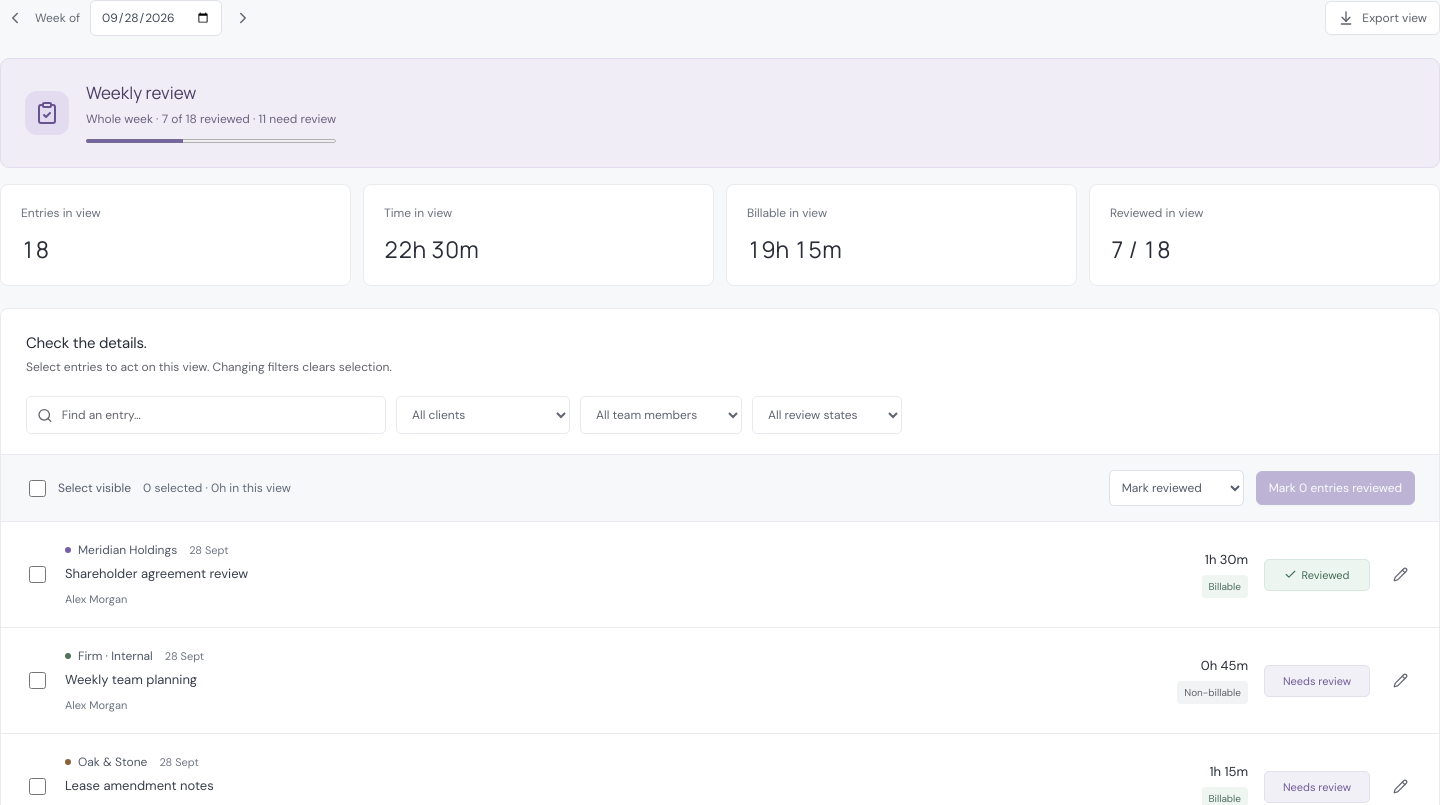
Test: weekly review view and action scope › clears selection when Search review changes
Click the checkbox named "Select visible entries".
click(38, 488)  # box x1=29 y1=480 x2=46 y2=496
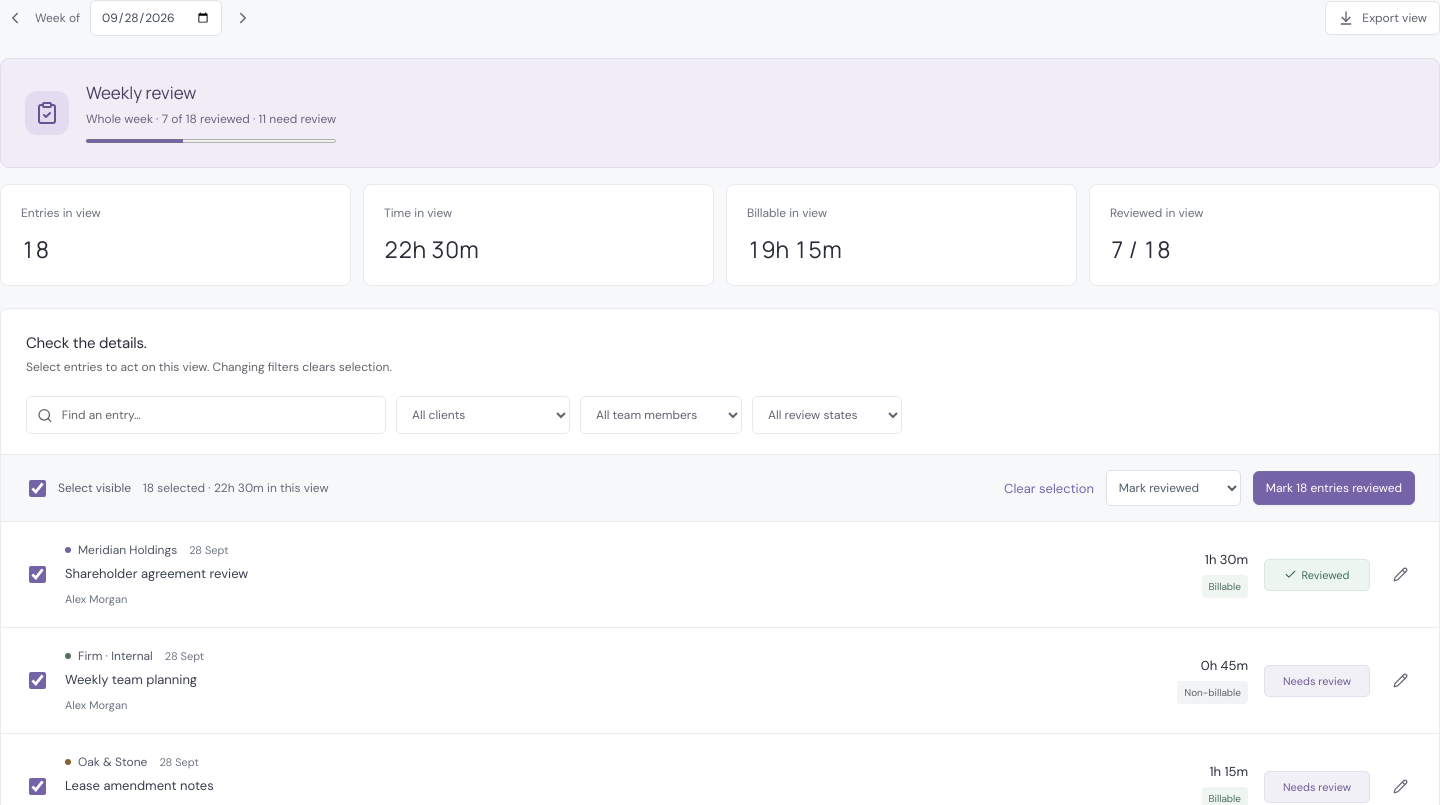
Type "agreement" into the field named "Search review".
click(218, 415); type("agreement")  # box x1=62 y1=397 x2=375 y2=433
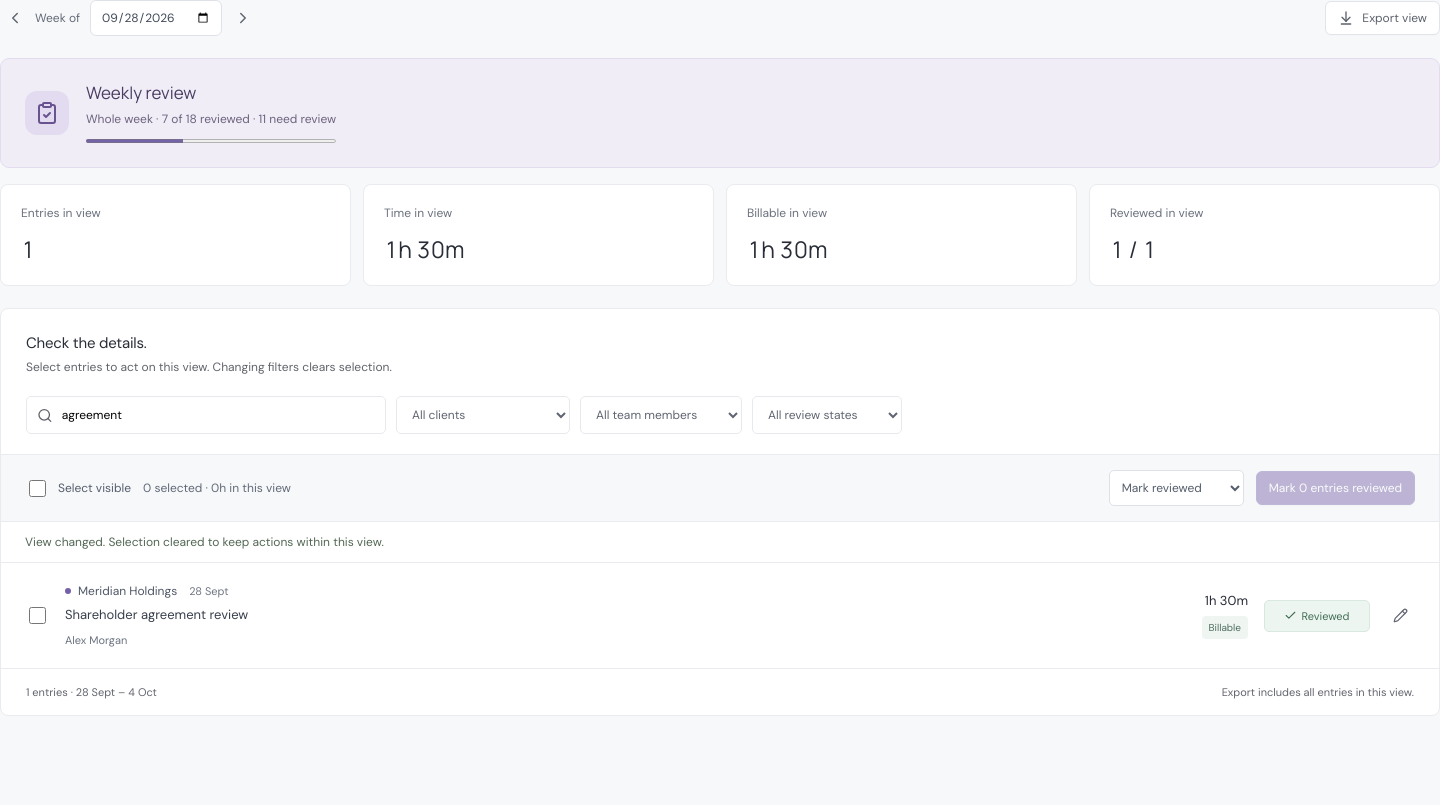
Result: the button "Mark 0 entries reviewed" is disabled at x1=1256 y1=471 x2=1415 y2=505
Result: the text "View changed. Selection cleared" is shown at x1=25 y1=534 x2=384 y2=550
